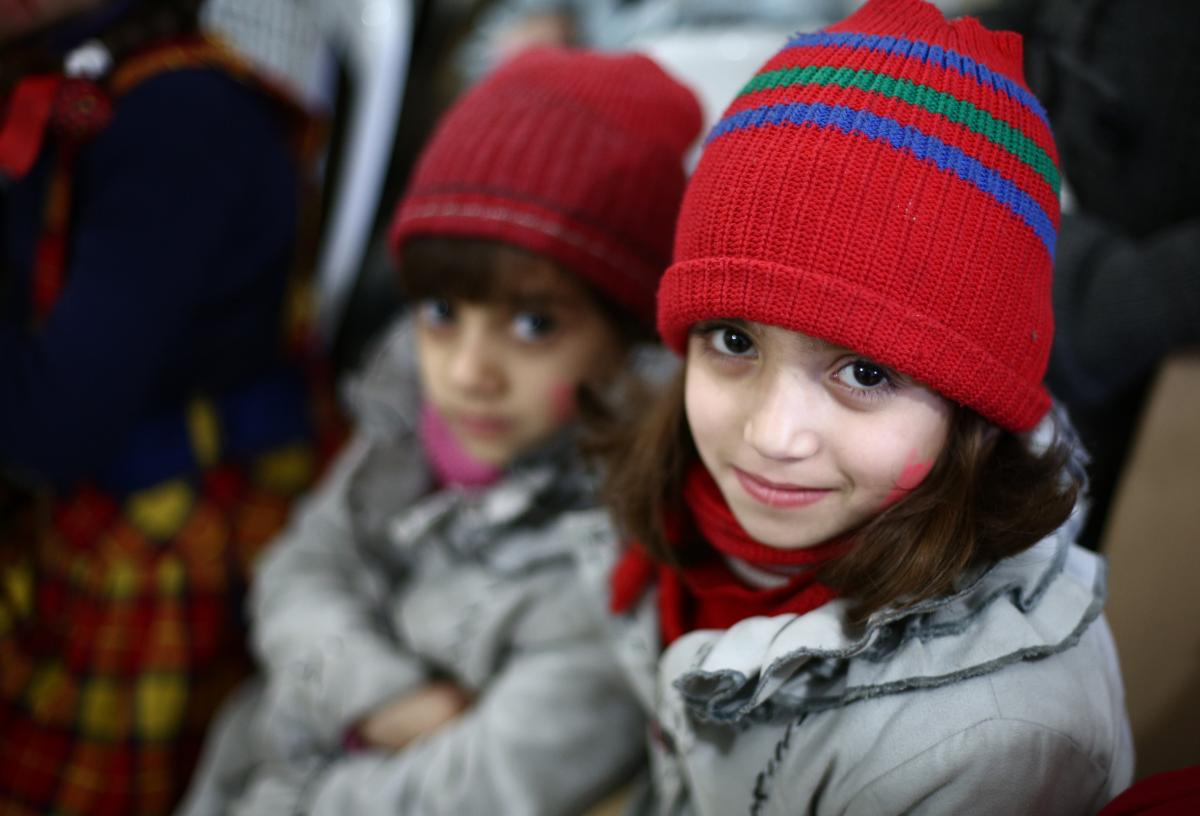human: (623, 2, 1160, 816), (178, 34, 707, 816)
